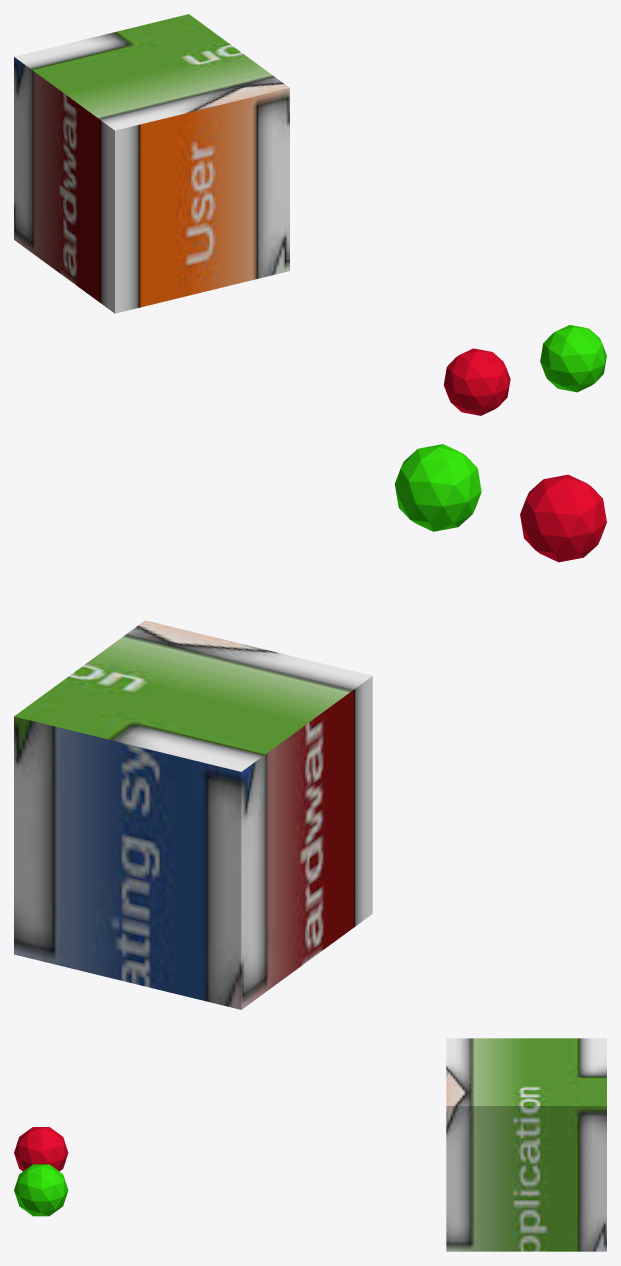
File: texture.glb
The picture shows the model from 3 angles, top to bottom: view 1: azimuth 30°, elevation 25°; view 2: azimuth 150°, elevation 25°; view 3: azimuth 270°, elevation 25°; orthographic projection. The views are drawn at different scales.
Parts seen in each view (by area): view 1: Cube, Icosphere.001, Icosphere; view 2: Cube, Icosphere.001, Icosphere; view 3: Cube, Icosphere.001, Icosphere.
Part boxes in pixels (bbox=[...]): Cube: bbox=[14, 14, 289, 313]; Icosphere.001: bbox=[540, 325, 606, 392]; Icosphere: bbox=[444, 348, 510, 415]; Cube: bbox=[14, 620, 372, 1009]; Icosphere.001: bbox=[394, 444, 481, 531]; Icosphere: bbox=[520, 474, 606, 562]; Cube: bbox=[446, 1038, 606, 1251]; Icosphere.001: bbox=[14, 1164, 68, 1216]; Icosphere: bbox=[14, 1127, 68, 1171].
Bounding box in the file's own units: 7.84 × 5.91 × 21.79.
Materials: 3 (1 with a texture image).
